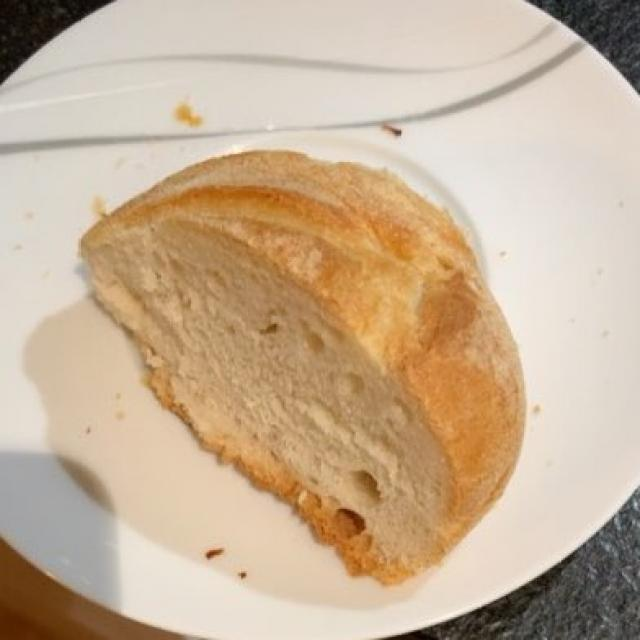bread: (87, 151, 520, 574)
